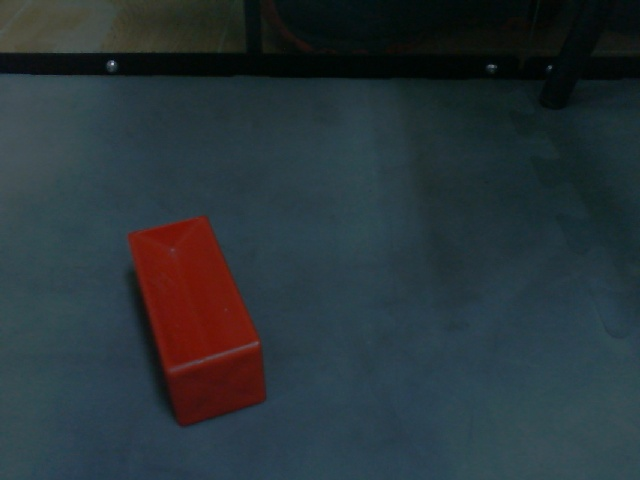RedSample: (125, 213, 271, 430)
